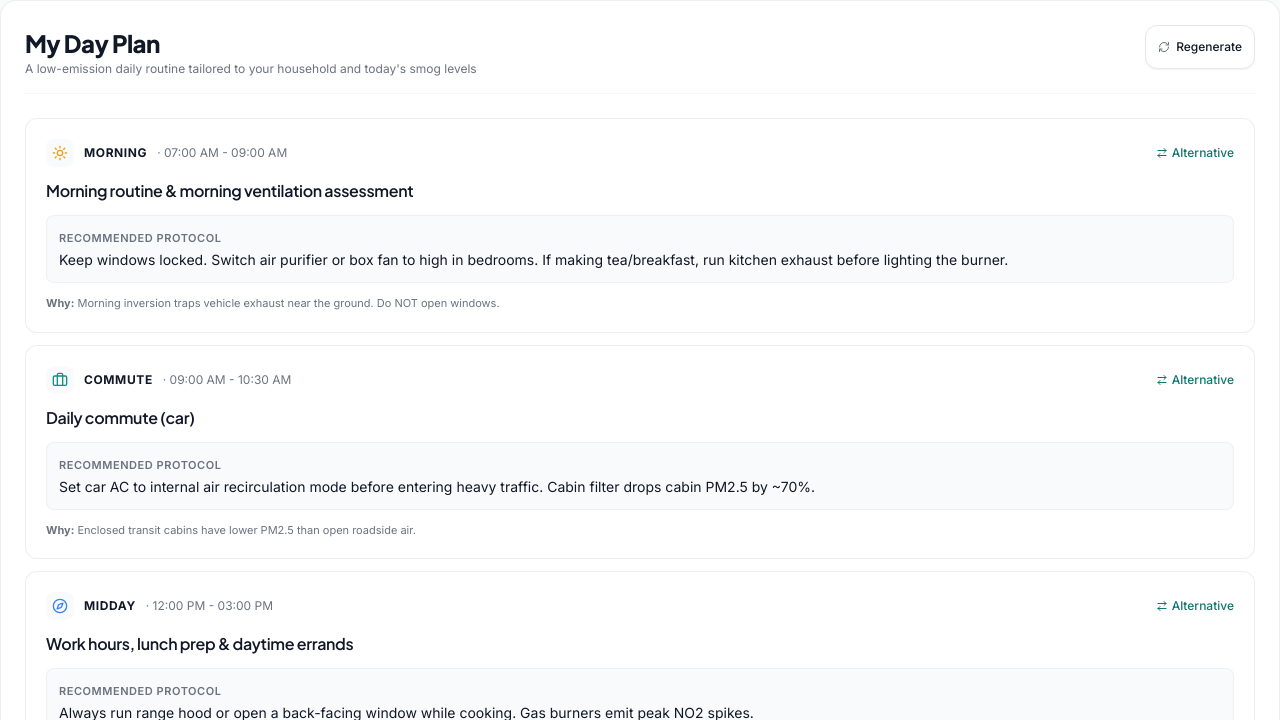
Scenario: Feature Sections Suite › DayPlanSection › allows opening alternative picker and swapping the block routine
Click the button with aria-label "Pick an alternative": (1195, 153) left=1156, top=145, right=1234, bottom=161
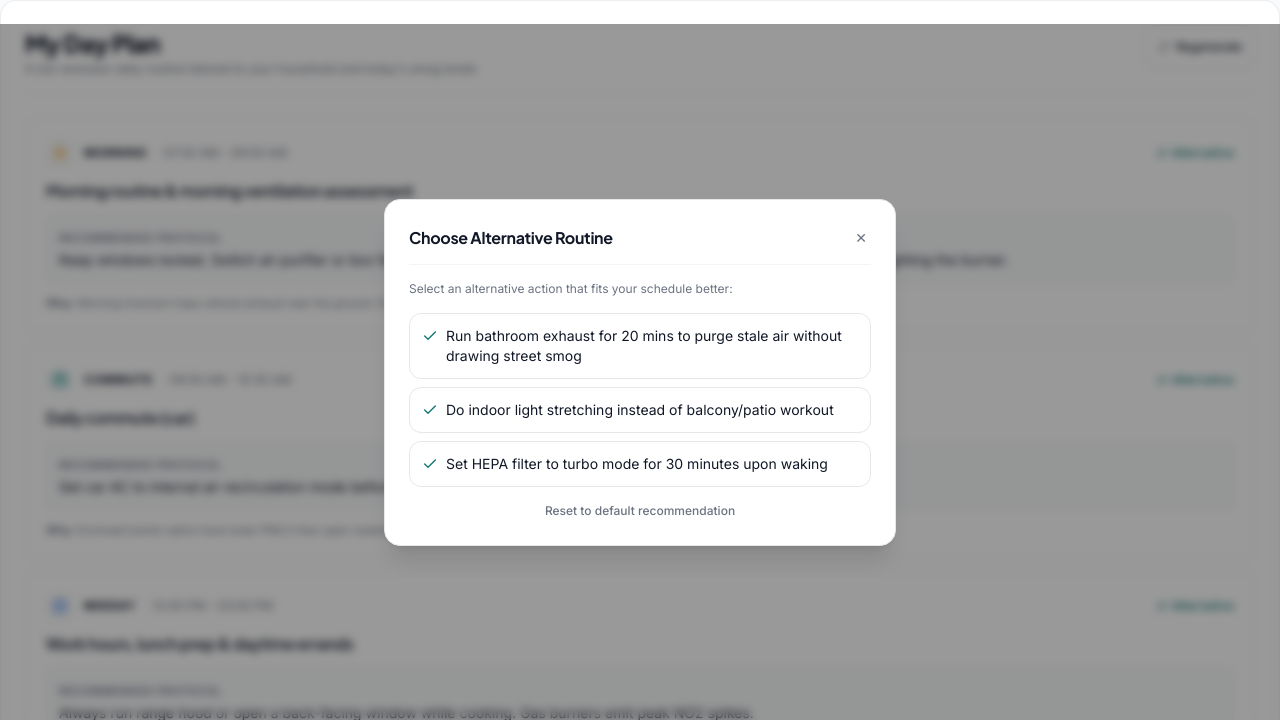
Check: the heading "Choose Alternative Routine" is shown, box left=409, top=226, right=613, bottom=250
# Click the reset to default button inside modal
Click the button "Reset to default recommendation": (640, 506) left=409, top=494, right=871, bottom=518
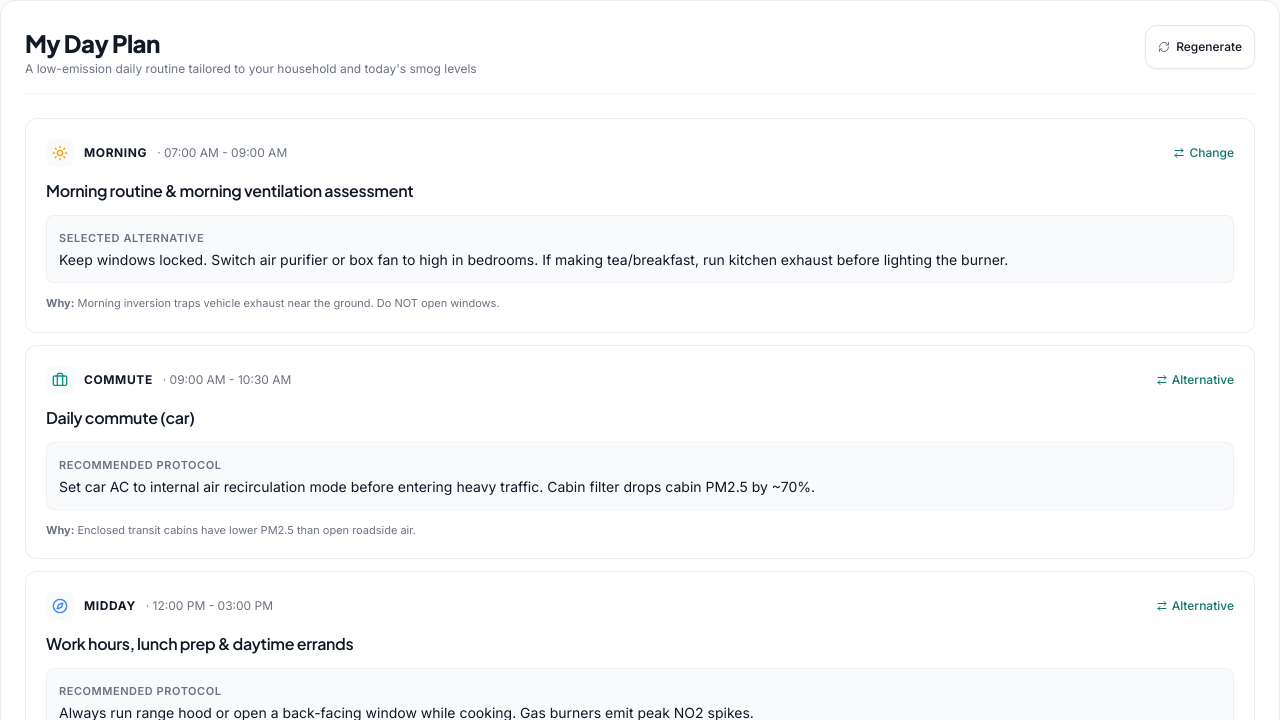
Check: the heading "Choose Alternative Routine" is gone
